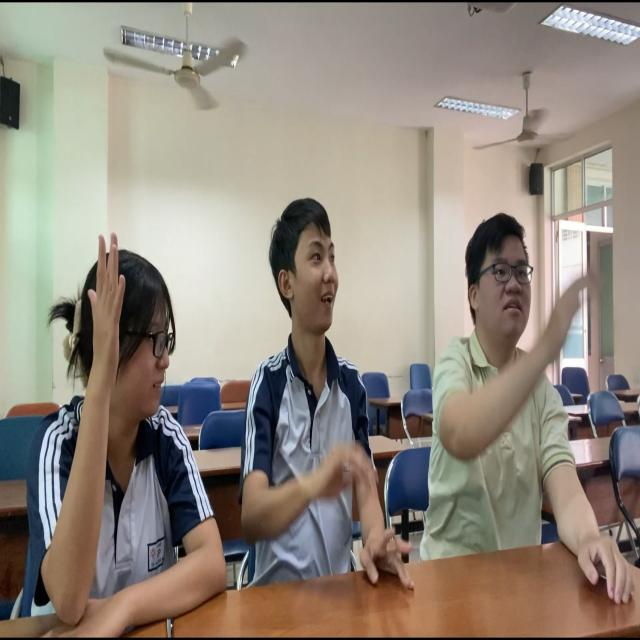raise_hand: (3, 221, 233, 640)
